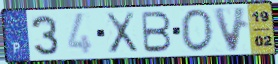3: (29, 14, 60, 57)
4: (66, 11, 95, 57)
B: (141, 10, 174, 54)
O: (179, 8, 215, 54)
V: (211, 5, 249, 54)
X: (104, 10, 140, 55)
